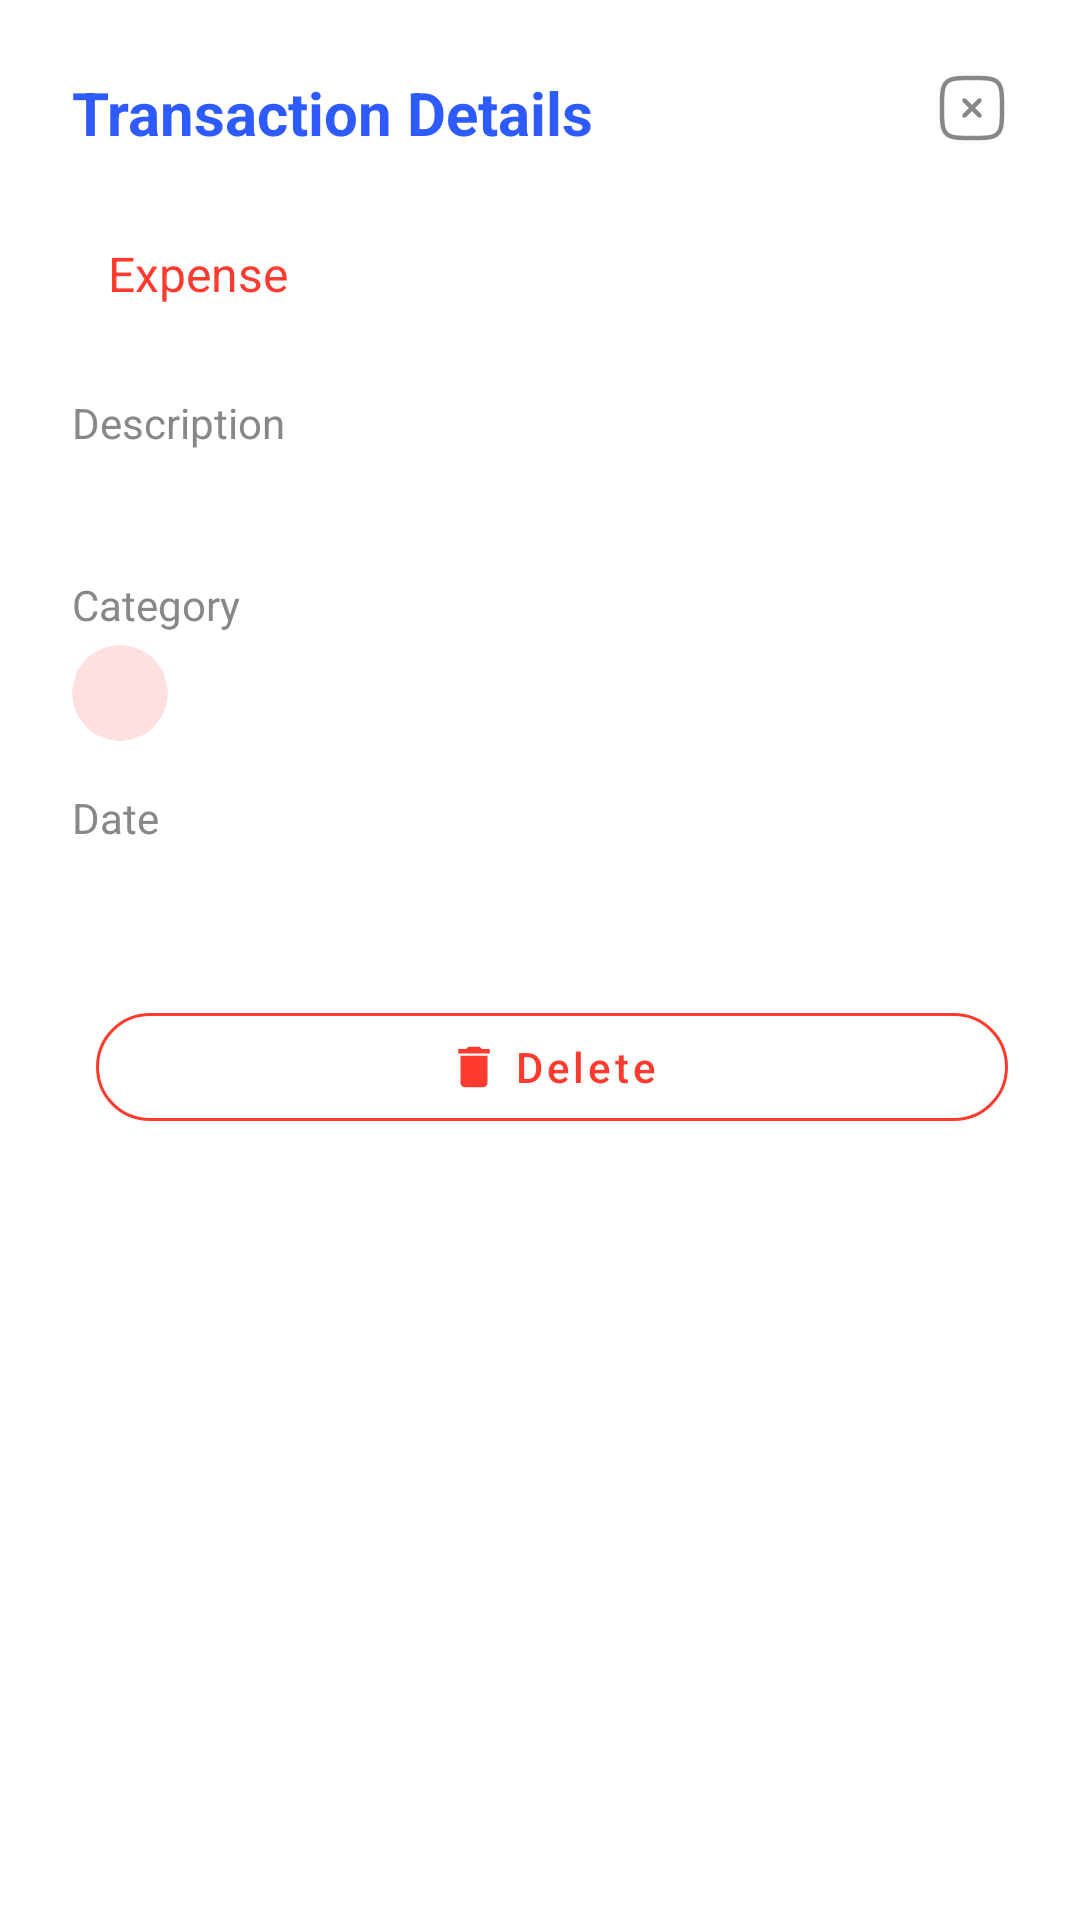

Icon click points for this 1080w x 1920h phone screenshot, format (x=x, y=y):
Close: (x=972, y=108)
